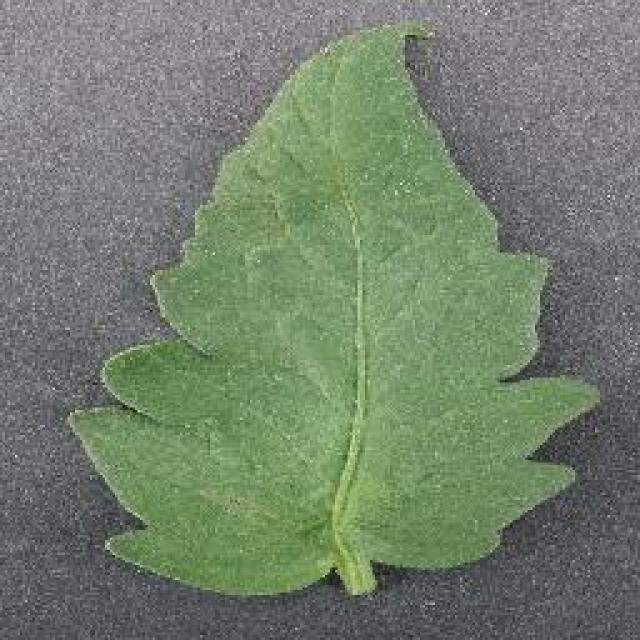Healthy: (62, 5, 608, 610)
